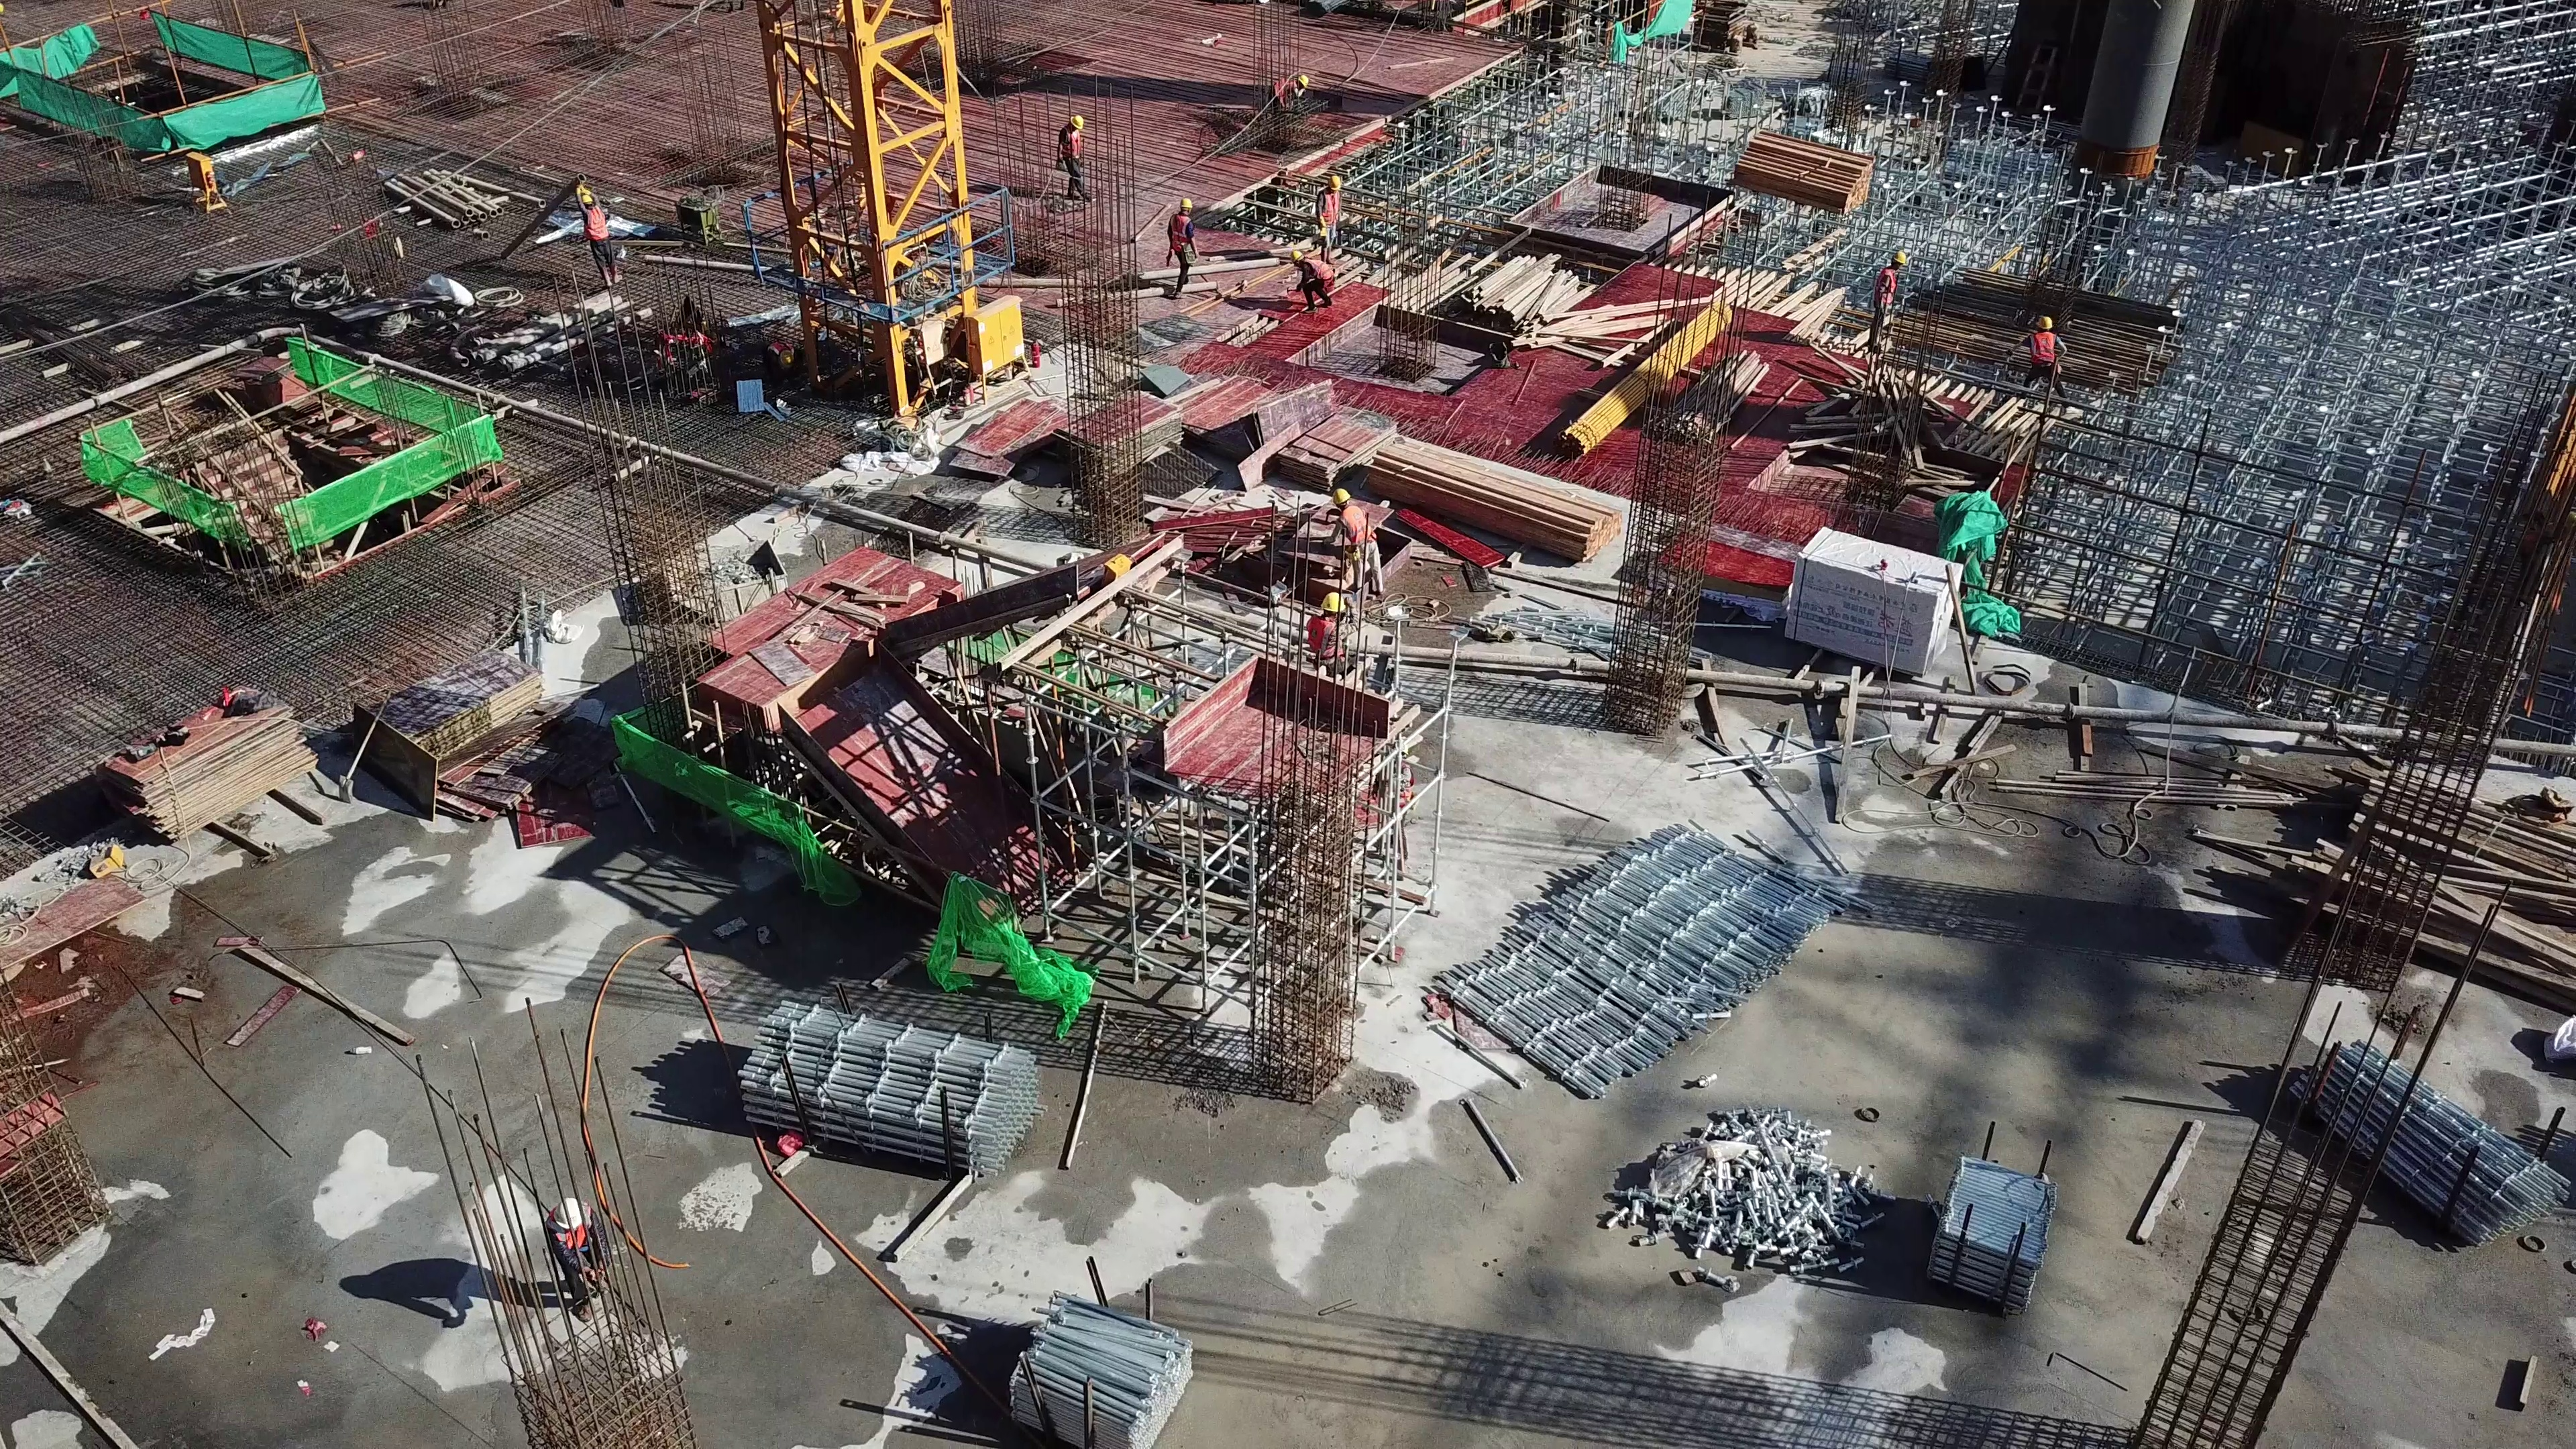board: (93, 689, 321, 844), (362, 649, 545, 812)
helmet: (542, 1199, 592, 1232)
person: (531, 1197, 627, 1334), (1338, 476, 1388, 596), (1163, 191, 1213, 299), (1866, 243, 1907, 368), (1053, 97, 1091, 202), (2021, 305, 2065, 389), (578, 182, 615, 278), (1283, 252, 1344, 301), (1309, 164, 1344, 246)
scaffold: (1417, 823, 1831, 1104), (735, 975, 1044, 1179), (2286, 1024, 2576, 1238), (1006, 1284, 1193, 1449), (1937, 1159, 2059, 1305)
wood: (2304, 771, 2576, 1000), (1359, 439, 1621, 576), (1405, 249, 1648, 363)
